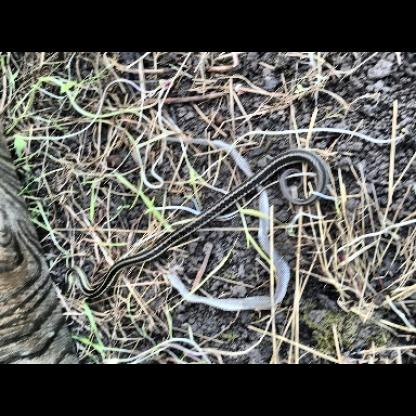Snake: (42, 143, 332, 298)
